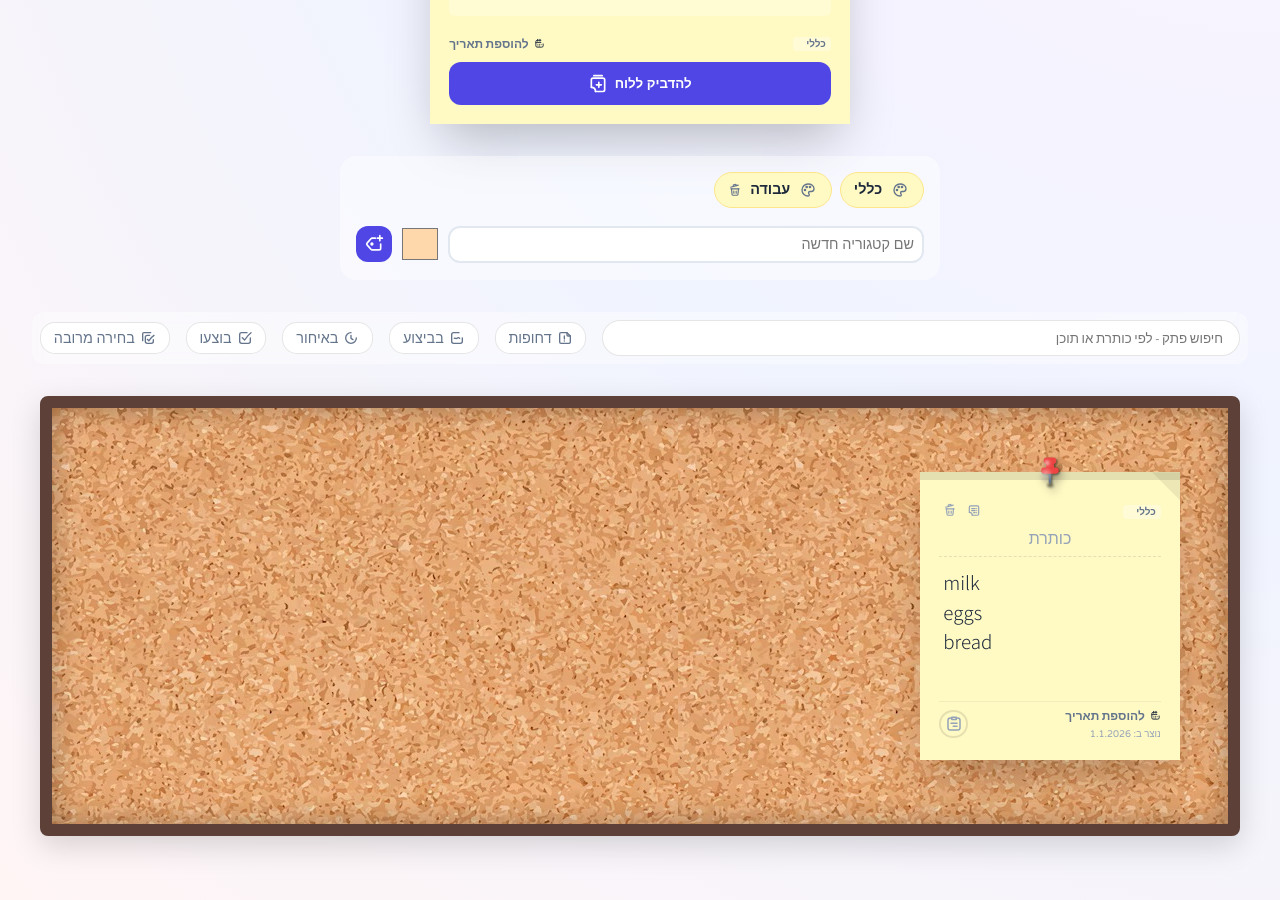
checklist notes › converting a note turns each of its lines into a separate checklist item
(page scrolled)
Click the button named "להפוך לרשימה": point(974, 512) [963,500,985,526]
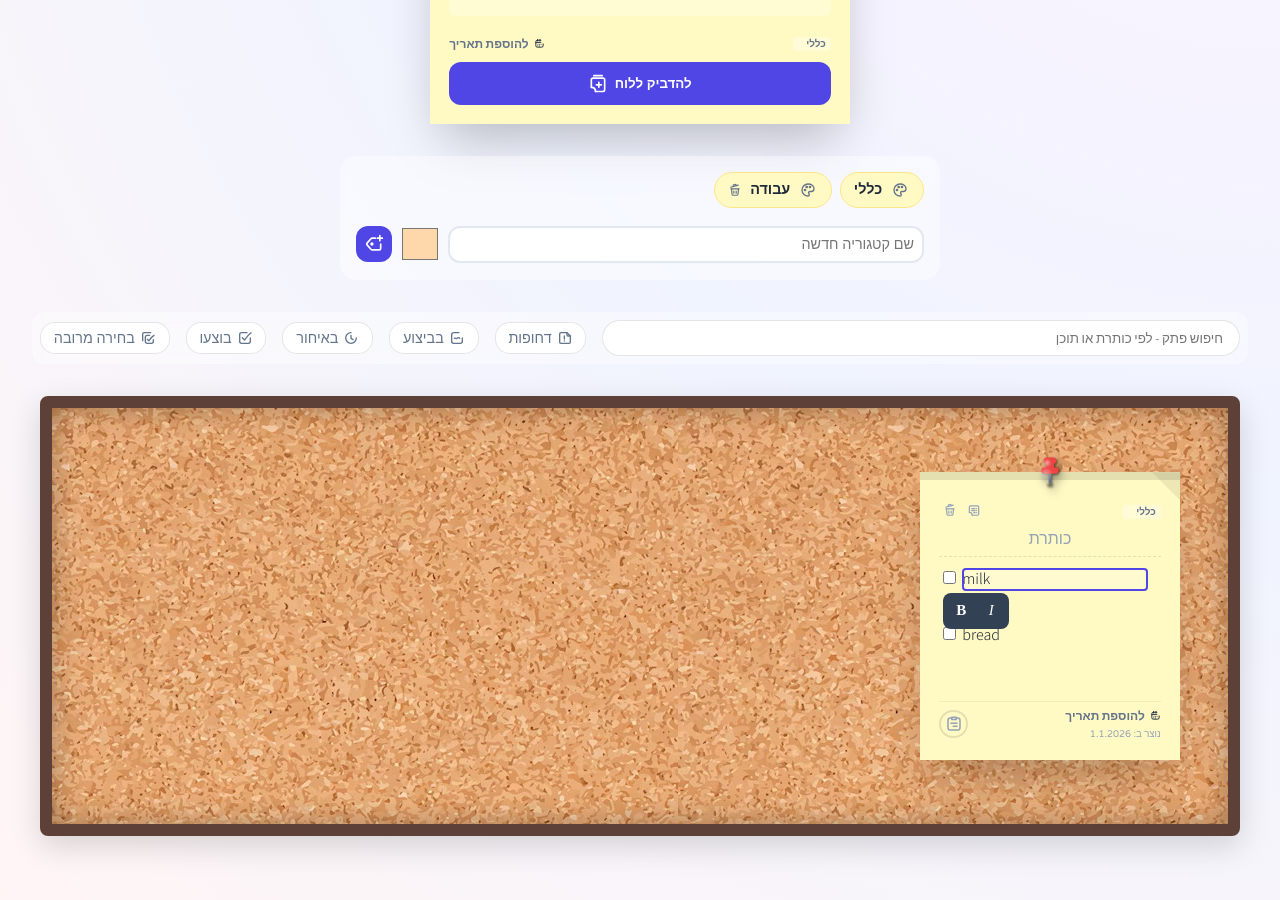
Now the fields read "milk", "eggs", "bread", in this order, box [962,568,1148,591]; [962,596,992,618]; [962,624,1000,645]
